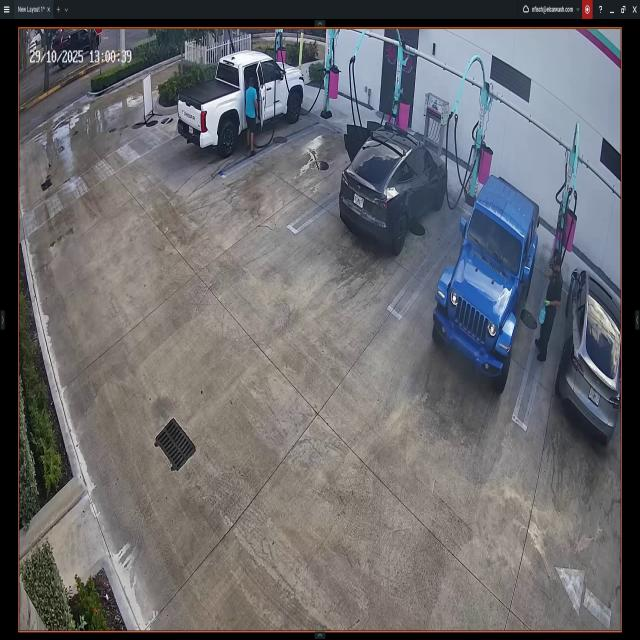Car: (434, 175, 536, 393), (341, 120, 447, 252), (175, 52, 304, 149), (557, 266, 620, 444)
